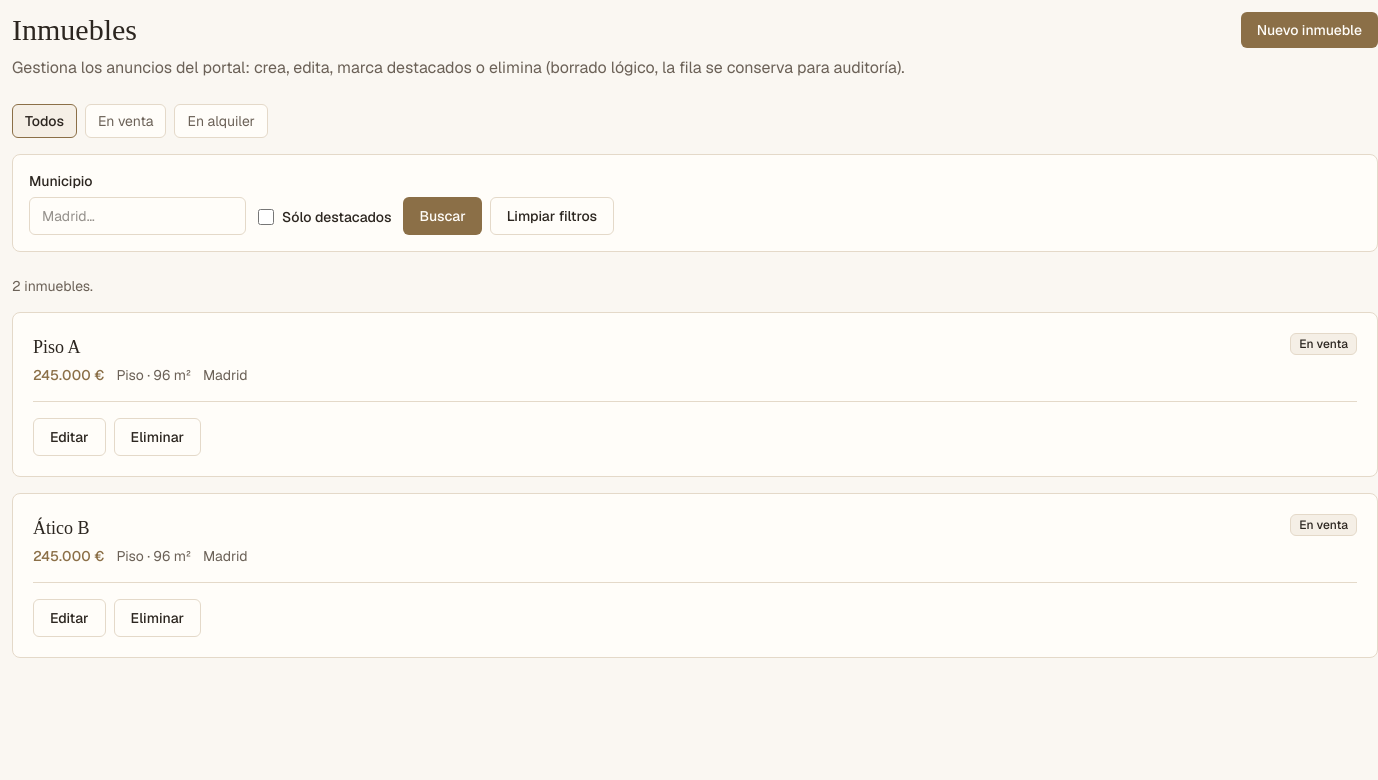
PanelInmuebles — borrado optimista › al_confirmar_la_fila_sale_ya_y_el_delete_se_envia
Expected: the heading "Piso A" is shown, [33,337,80,357]
Click the button "Eliminar" below "Piso A".
click(157, 437)  # box [114,418,201,456]
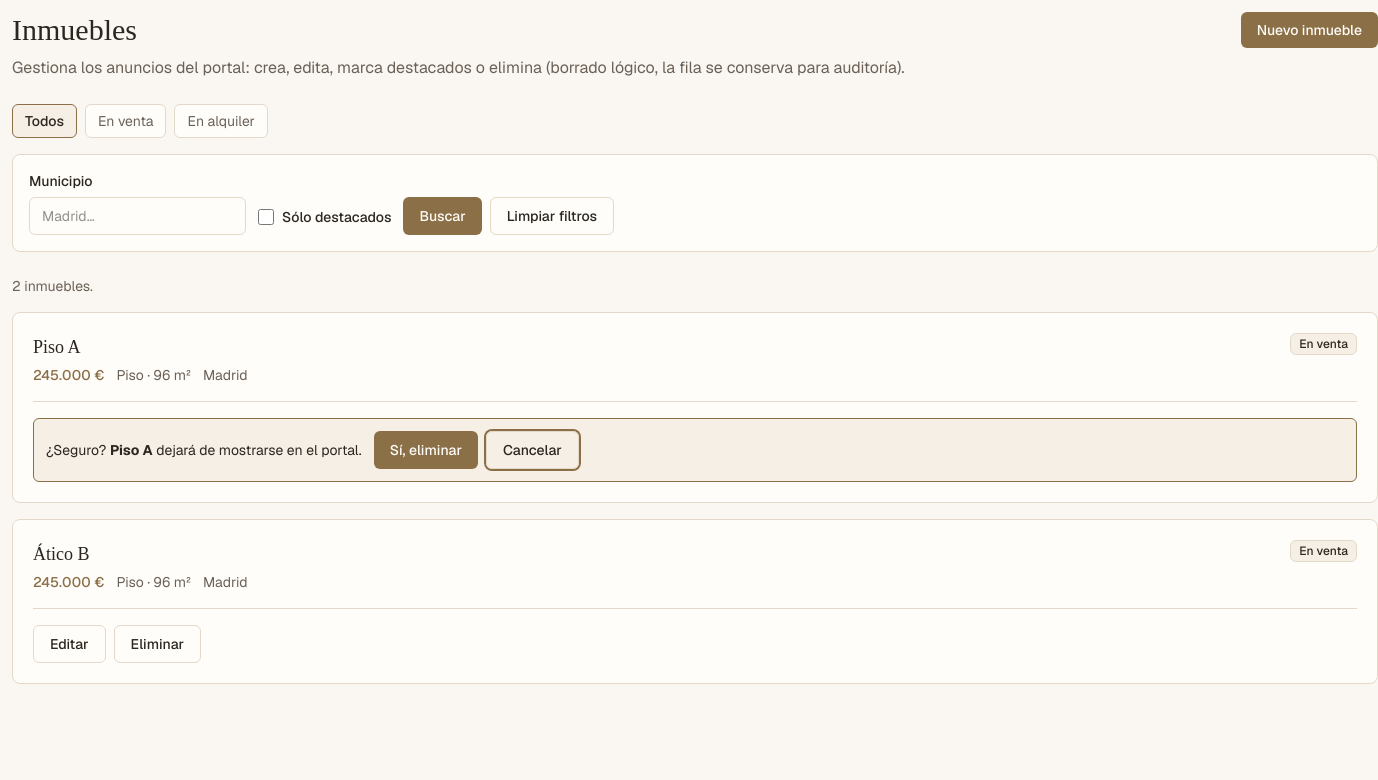
Expected: the element named "Confirmar: Eliminar" is shown, [33,418,1357,482]
Click the button "Sí, eliminar".
click(426, 450)  # box [374,431,478,469]
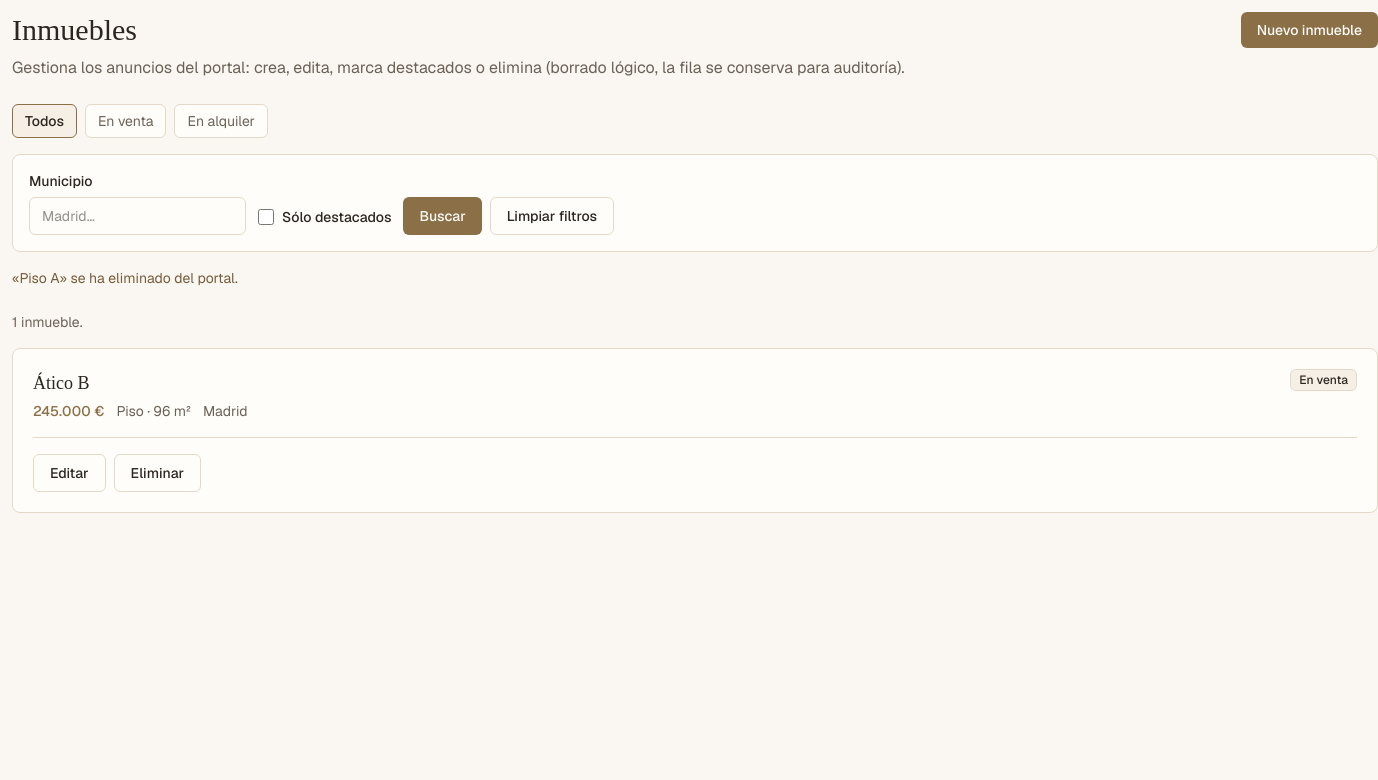
Expected: the heading "Ático B" is shown, [33,373,90,393]
Expected: the text "«Piso A» se ha eliminado del portal." is shown, [12,269,238,287]
